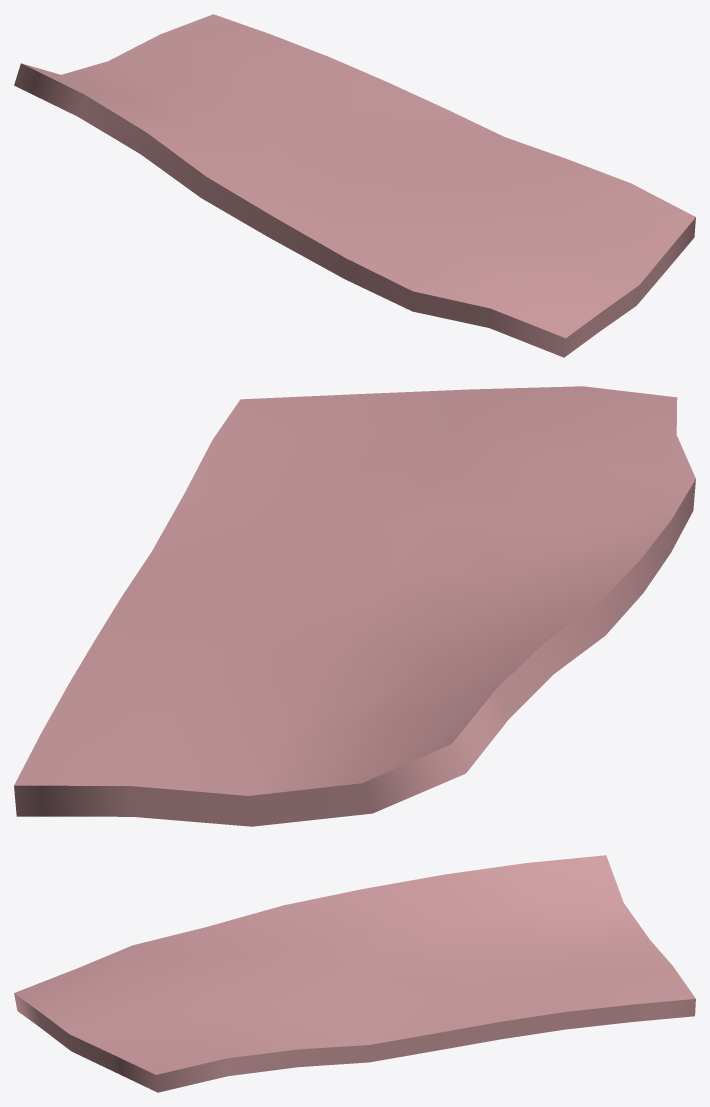
The picture shows the model from 3 angles, top to bottom: view 1: azimuth 30°, elevation 25°; view 2: azimuth 150°, elevation 25°; view 3: azimuth 270°, elevation 25°; orthographic projection. The views are drawn at different scales.
Visible parts, largest first — view 1: ZA_881e72abcbf01fe7; view 2: ZA_881e72abcbf01fe7; view 3: ZA_881e72abcbf01fe7.
Boxes of the visible parts, x1,y1,x2,y2 form: ZA_881e72abcbf01fe7: [14, 14, 695, 357]; ZA_881e72abcbf01fe7: [14, 386, 695, 826]; ZA_881e72abcbf01fe7: [14, 855, 695, 1092].
Size of the model in its own units: 0.0617 by 0.0124 by 0.1029.
